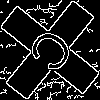C: (25, 25, 84, 82)
